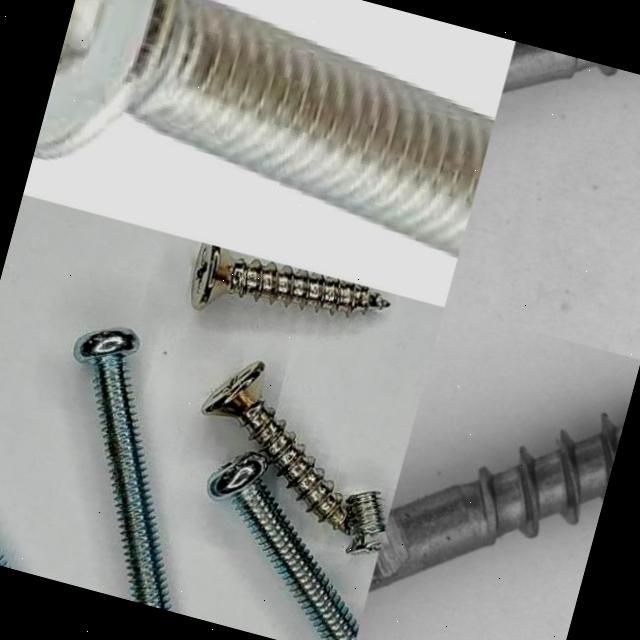Screw: (33, 0, 495, 260), (349, 306, 640, 640), (458, 41, 640, 305), (209, 452, 359, 640), (73, 327, 171, 611), (202, 362, 349, 534), (191, 242, 389, 315), (347, 490, 386, 553)
